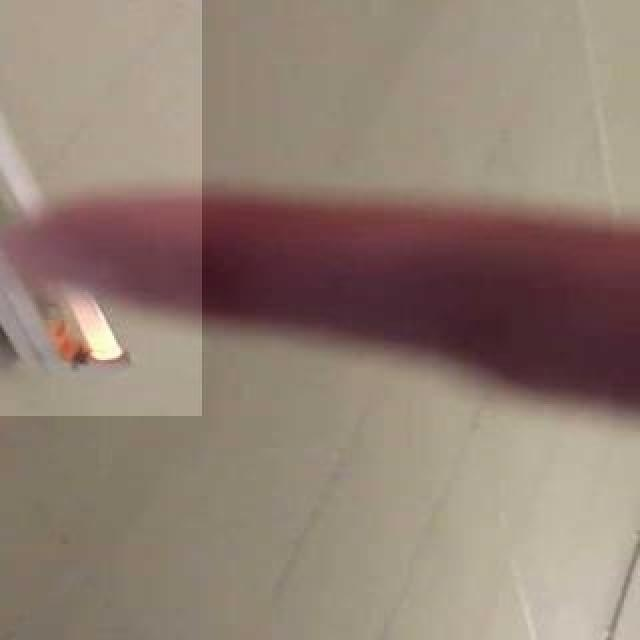fluorescent tube: (0, 0, 176, 432)
